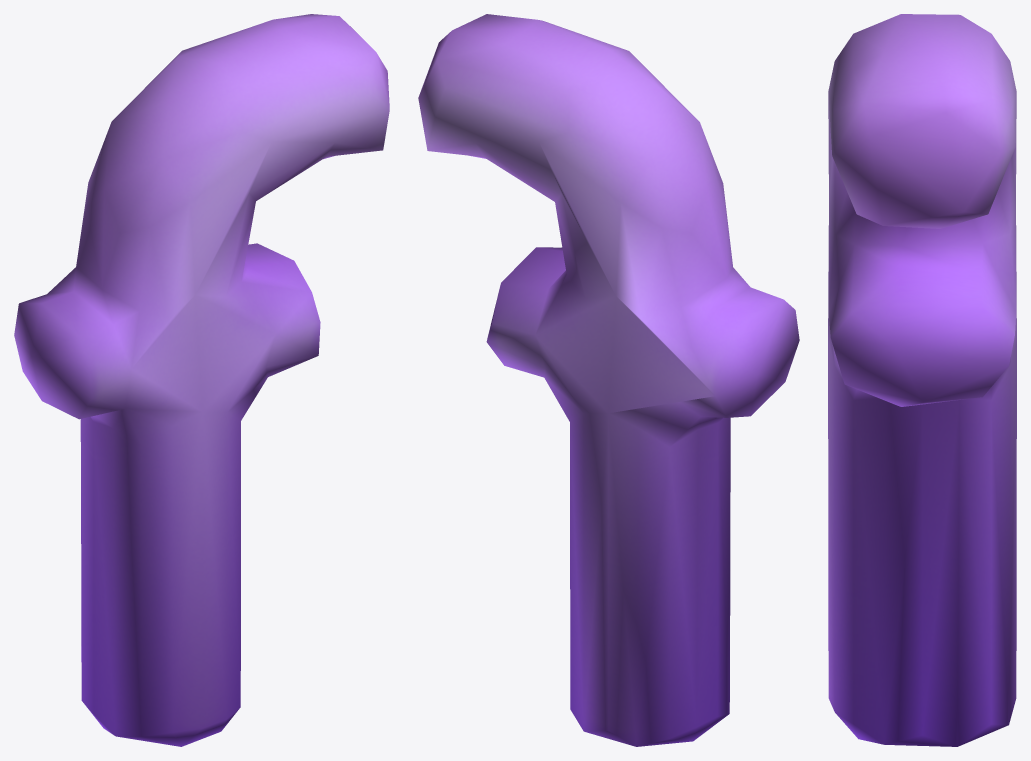
3 views of the same model, side by side, from view 1: azimuth 30°, elevation 25°; view 2: azimuth 150°, elevation 25°; view 3: azimuth 270°, elevation 25° (orthographic). The views are drawn at different scales.
Visible parts, largest first — view 1: Processed_Mesh0_Geometry; view 2: Processed_Mesh0_Geometry; view 3: Processed_Mesh0_Geometry.
Boxes of the visible parts, x1,y1,x2,y2 form: Processed_Mesh0_Geometry: [14, 14, 389, 746]; Processed_Mesh0_Geometry: [418, 14, 799, 746]; Processed_Mesh0_Geometry: [828, 14, 1016, 746].
Size of what is drawn, in the model's own units: 0.0421 by 0.0839 by 0.0189.
Materials: 1 (1 with a texture image).
